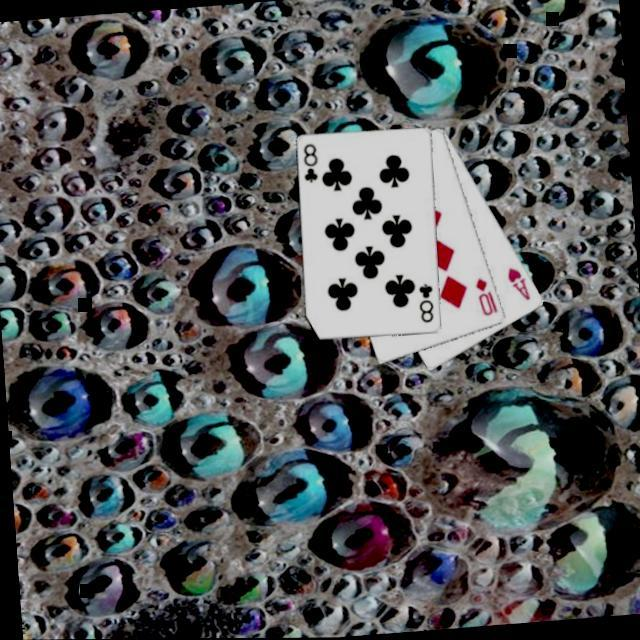10D: (472, 273, 501, 319)
8C: (415, 280, 438, 325), (300, 140, 323, 185)
AH: (504, 262, 535, 304)
